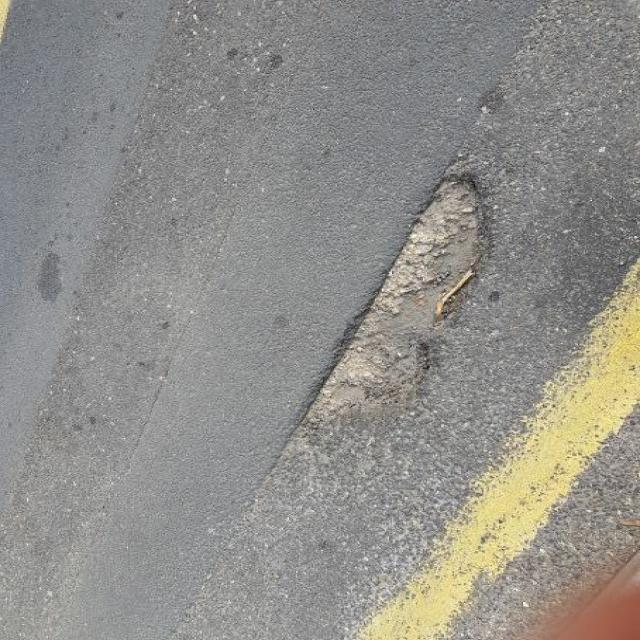pothole: (280, 162, 495, 444)
